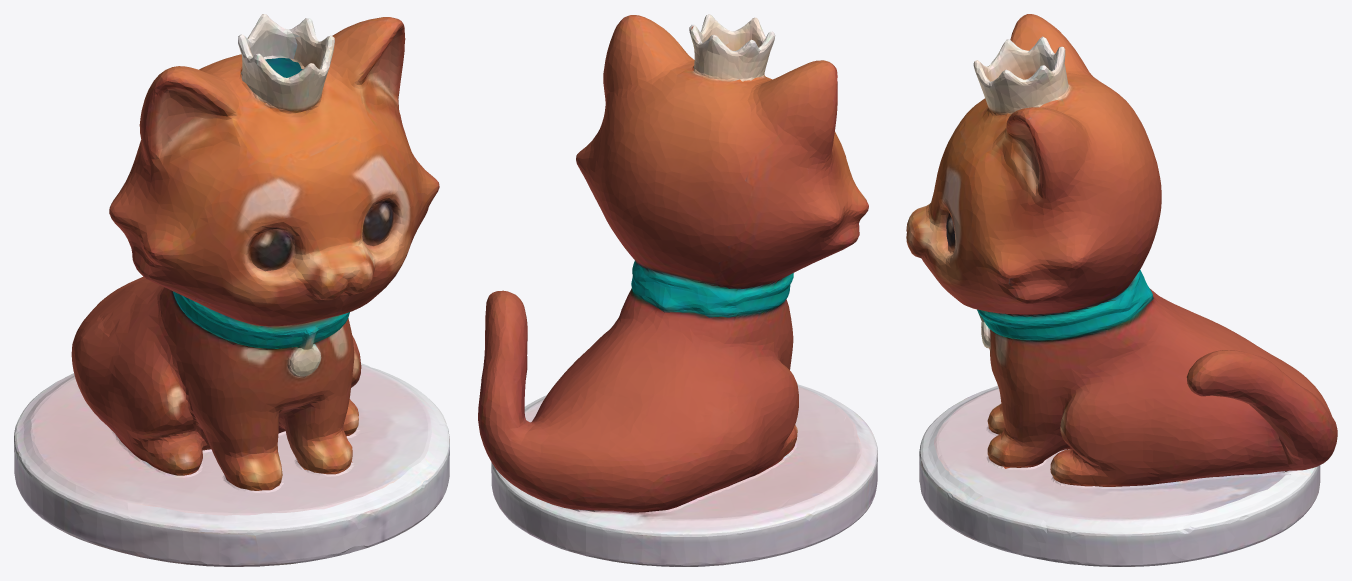
Rendered from fig-28.glb.
3 views of the same model, side by side, from view 1: azimuth 30°, elevation 25°; view 2: azimuth 150°, elevation 25°; view 3: azimuth 270°, elevation 25° (orthographic). The views are drawn at different scales.
Parts seen in each view (by area): view 1: tmpzk6lhfkr.ply; view 2: tmpzk6lhfkr.ply; view 3: tmpzk6lhfkr.ply.
Boxes of the visible parts, x1,y1,x2,y2 form: tmpzk6lhfkr.ply: (14,14,449,566); tmpzk6lhfkr.ply: (478,14,877,566); tmpzk6lhfkr.ply: (906,14,1337,566).
Size of the model in its own units: 1.62 by 1.99 by 1.77.
1 material, 1 textured.
